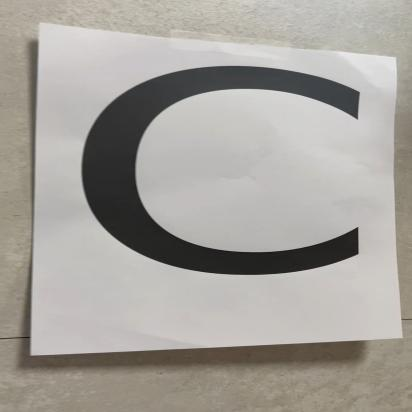seat: (28, 2, 412, 373)
